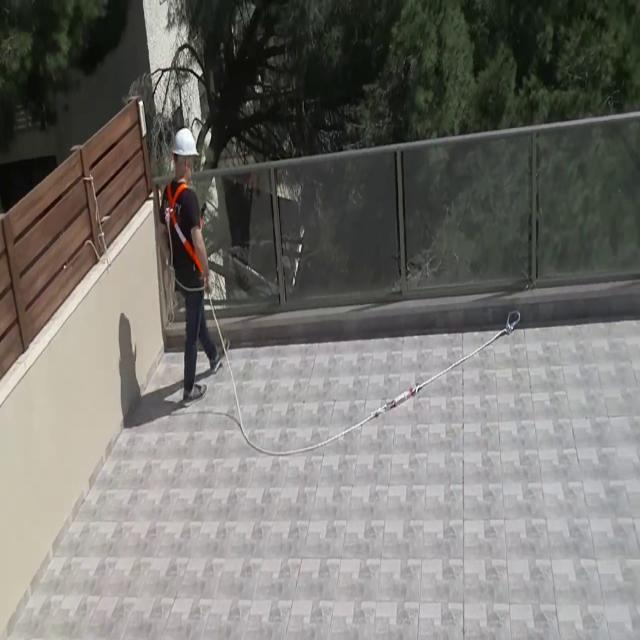Harness: (228, 311, 522, 458), (165, 182, 203, 272)
